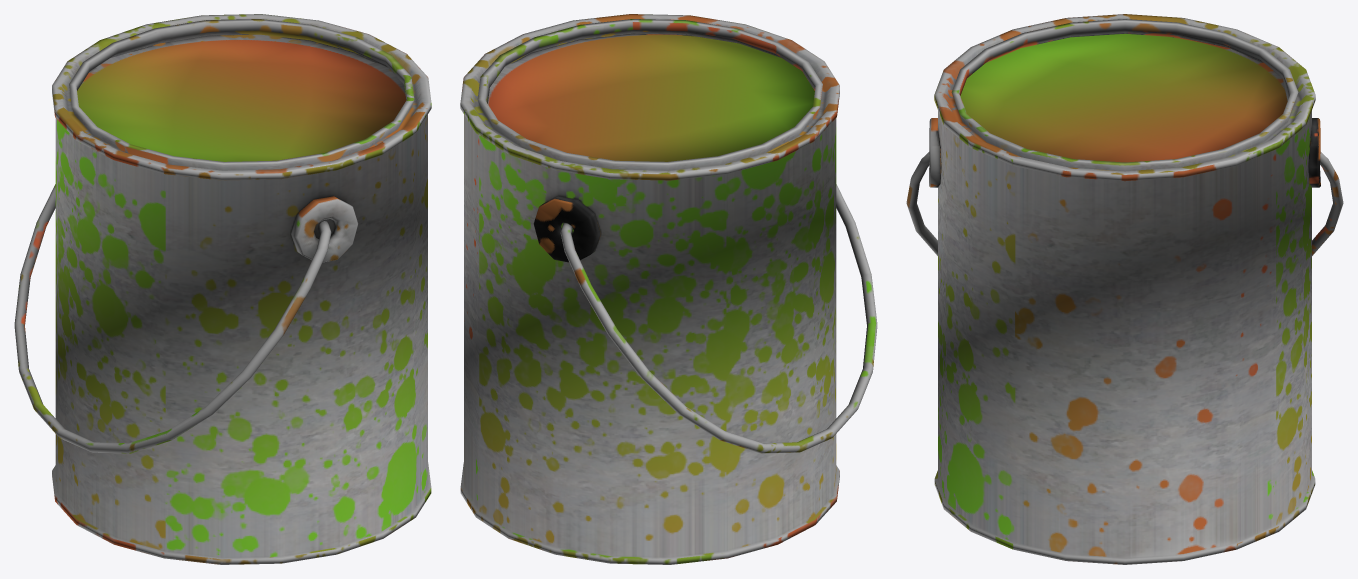
The model's file is paintTin.fbx.
3 views of the same model, side by side, from view 1: azimuth 30°, elevation 25°; view 2: azimuth 150°, elevation 25°; view 3: azimuth 270°, elevation 25° (orthographic).
Visible parts, largest first — view 1: pCylinder1, pTorus1, pCylinder2; view 2: pCylinder1, pTorus1, pCylinder2; view 3: pCylinder1, pTorus1, pCylinder2.
Boxes of the visible parts, box(x1,y1,x2,y2) form: pCylinder1: box(52, 14, 431, 564); pTorus1: box(14, 184, 331, 453); pCylinder2: box(290, 196, 358, 262); pCylinder1: box(460, 14, 839, 564); pTorus1: box(560, 184, 877, 453); pCylinder2: box(533, 196, 601, 262); pCylinder1: box(934, 14, 1315, 564); pTorus1: box(906, 152, 1343, 255); pCylinder2: box(929, 118, 1320, 187).
Size of the model in its own units: 8.2 by 8.81 by 8.9.
